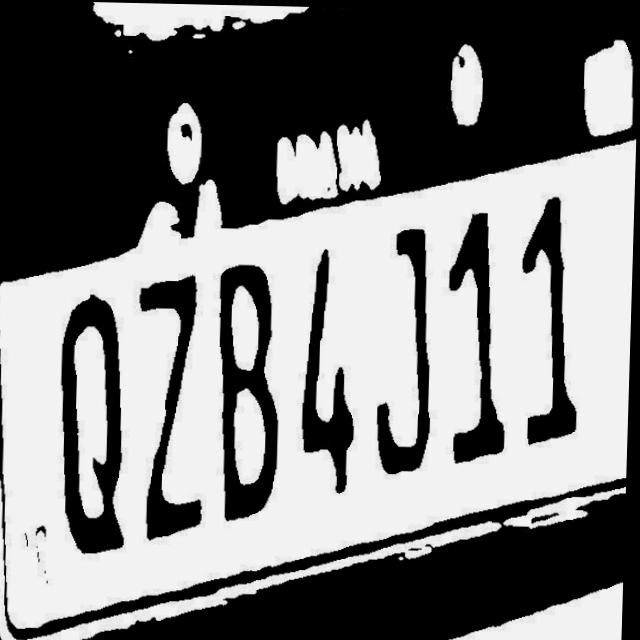1: (516, 187, 592, 450), (440, 207, 517, 463)
4: (286, 235, 373, 501)
b: (208, 249, 293, 529)
j: (362, 218, 441, 478)
q: (43, 285, 144, 565)
z: (122, 262, 221, 544)
